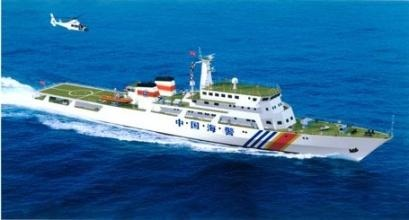airplane: (45, 9, 89, 32)
warship: (33, 49, 397, 166)
